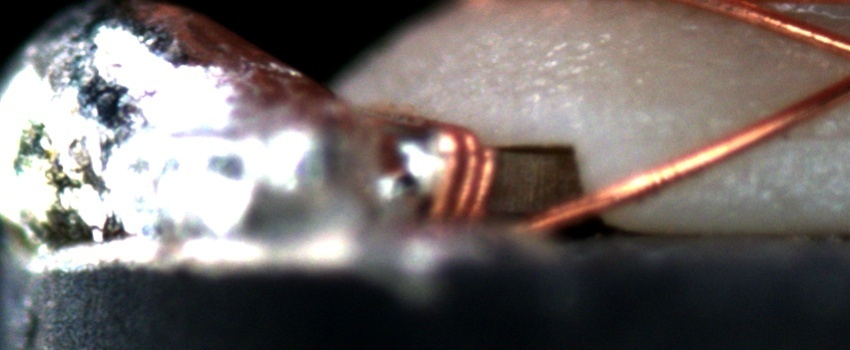DL: (781, 105, 849, 167)
TE: (425, 120, 501, 229)
